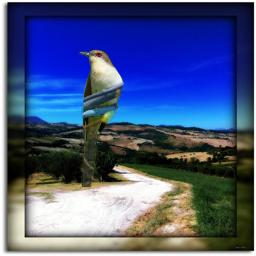Cuckoo: (78, 49, 125, 187)
